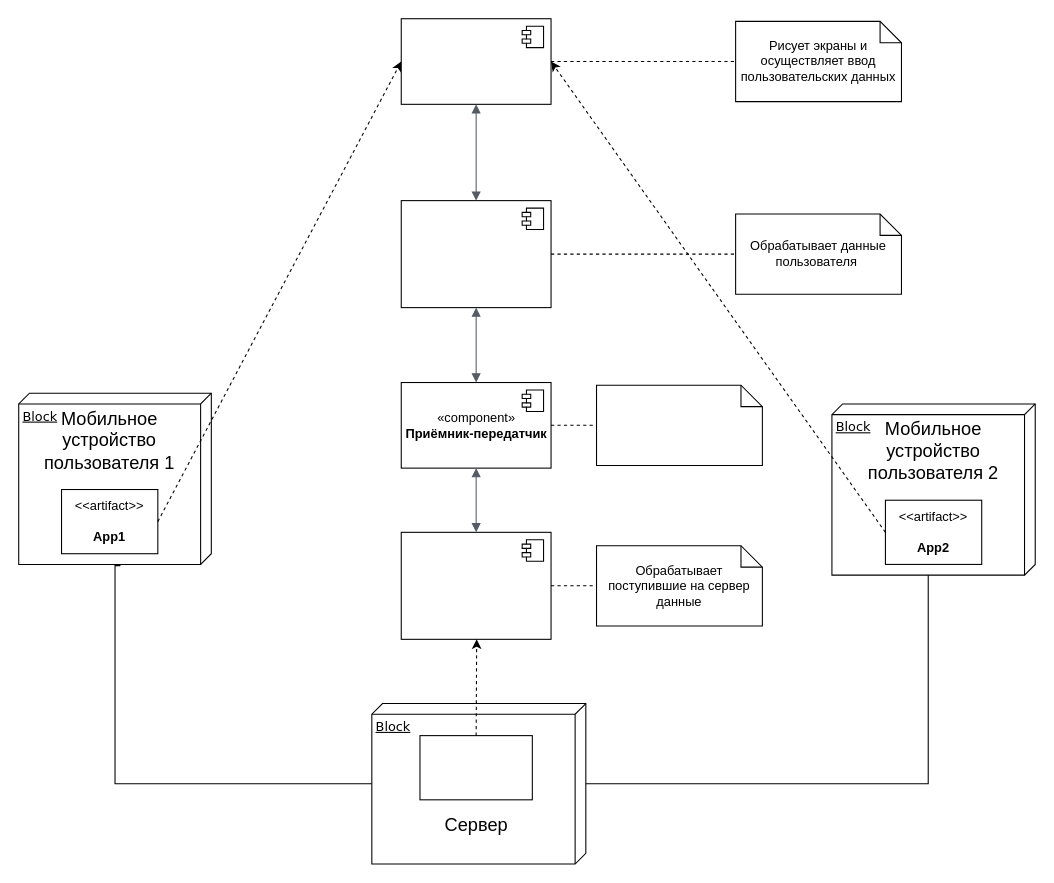
The diagram is 1054 pixels wide and 883 high, and some of its shapes have lost their labels. The box of each missing label's shape, as (x1, y1, x2, y2) in pixels:
<<artifact>> ServerRunnable: (419, 735, 532, 800)
«component» GUI Пользователя: (400, 18, 551, 104)
«component» Процессор клиентской логики: (400, 200, 551, 308)
«component» Процессор серверной логики: (400, 531, 551, 639)
Передаёт данные от клиента к серверу и наоборот: (595, 384, 762, 465)
